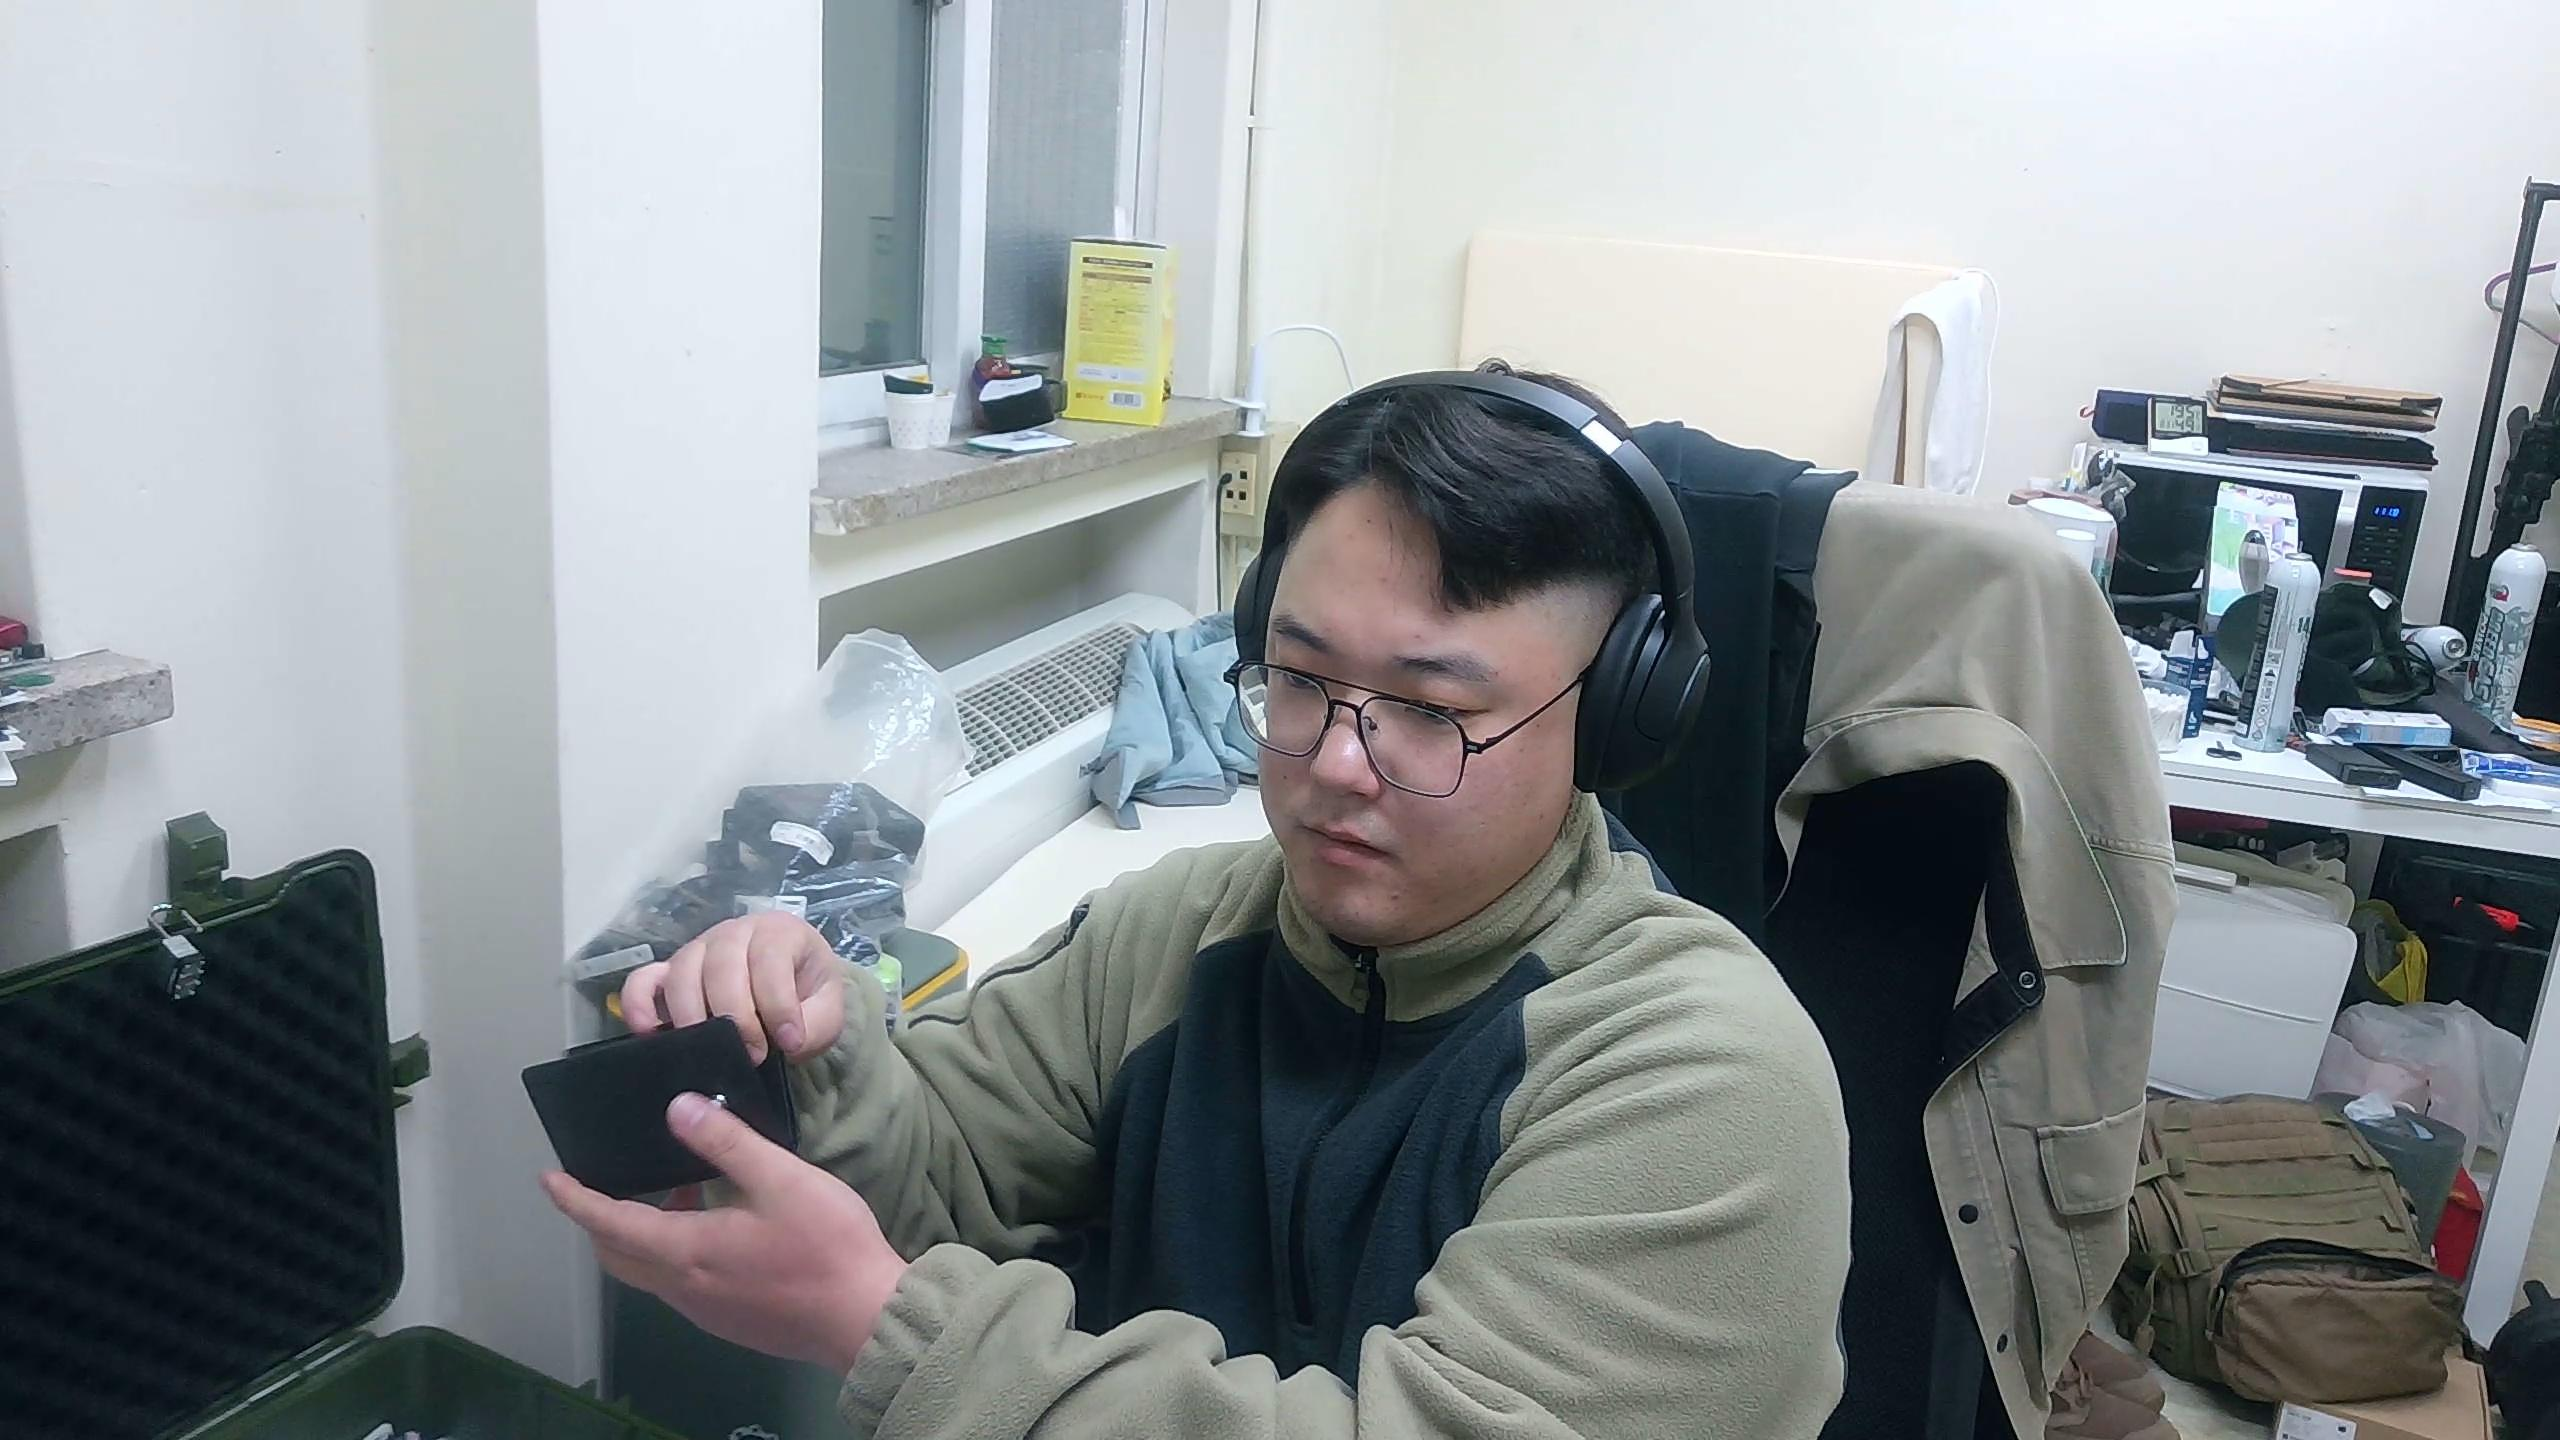earphone: (524, 1011, 805, 1204)
